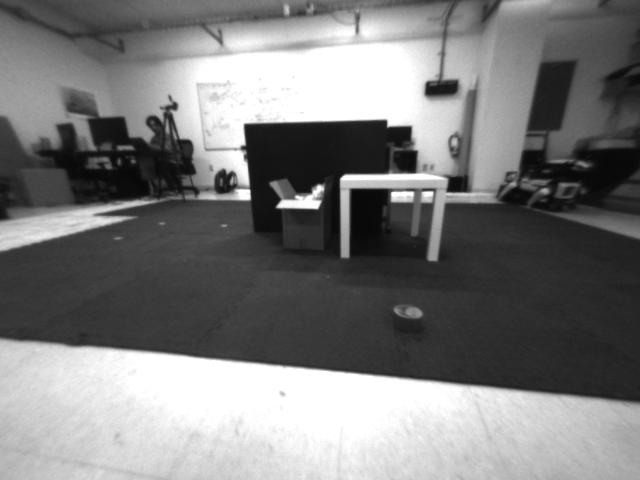dogtoy: (386, 299, 429, 346)
